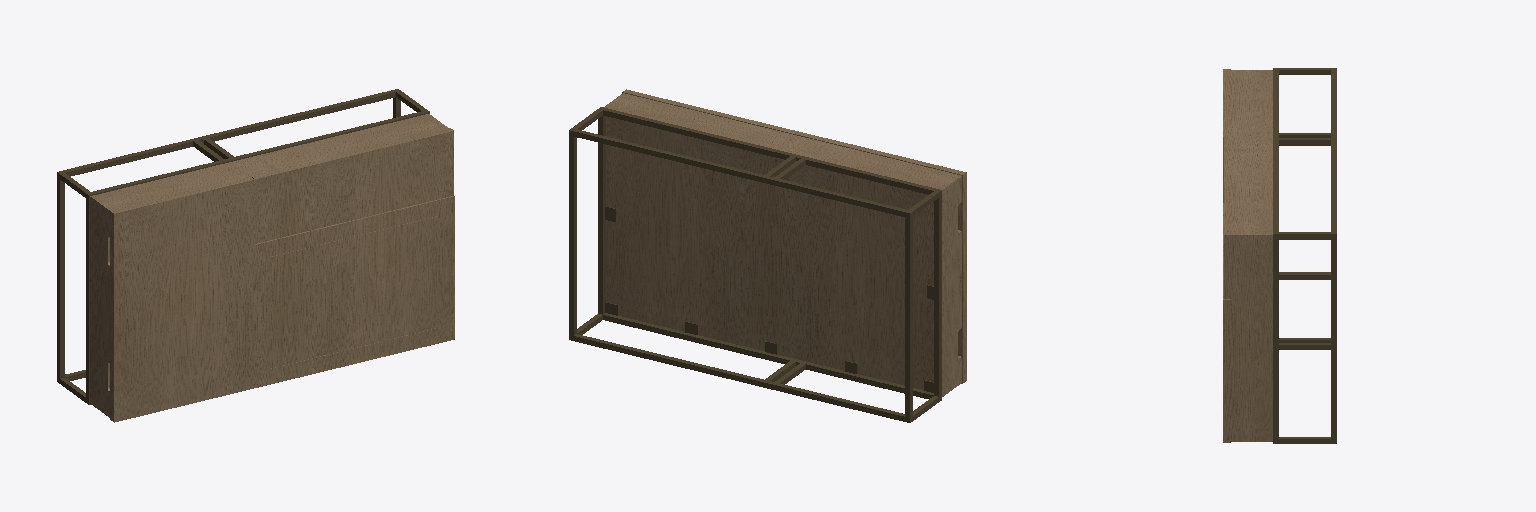
3 renders of one model, left to right at view 1: azimuth 30°, elevation 25°; view 2: azimuth 150°, elevation 25°; view 3: azimuth 270°, elevation 25°, orthographic.
Parts seen in each view (by area): view 1: default; view 2: default; view 3: default.
Boxes of the visible parts, x1,y1,x2,y2 form: default: [57, 89, 454, 422]; default: [569, 89, 966, 422]; default: [1223, 68, 1336, 443].
Size of the model in its own units: 1358 by 798 by 391.
2 materials, 1 textured.